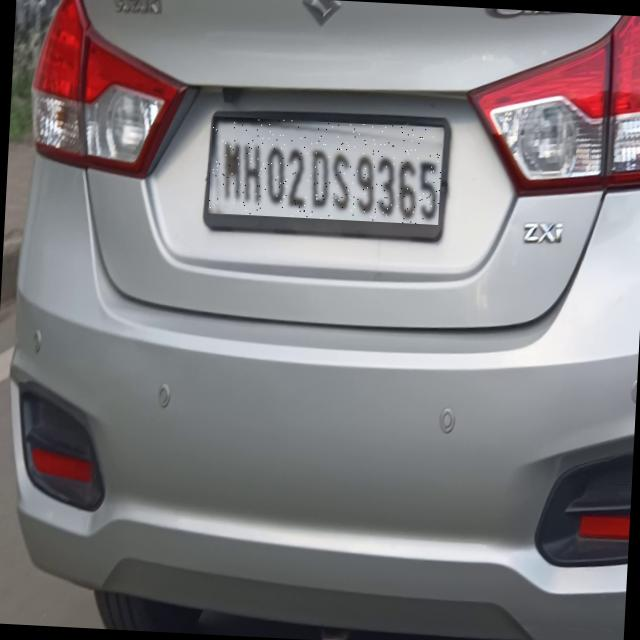Plate: (210, 117, 445, 226)
